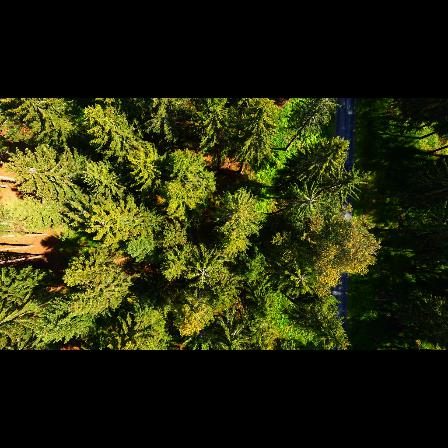Sick: (183, 258, 222, 289), (297, 188, 323, 215), (293, 266, 315, 294)
